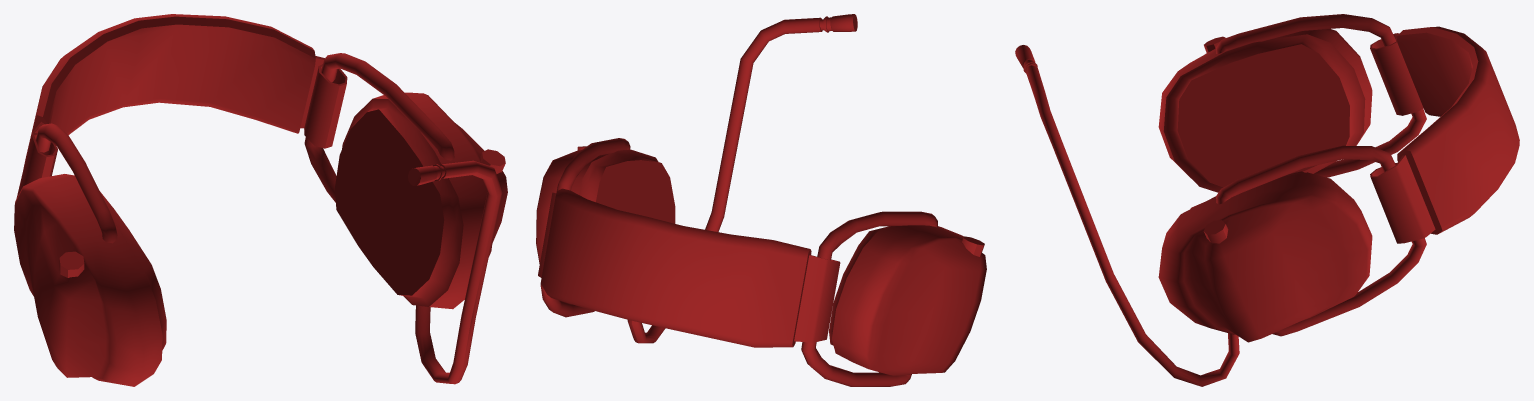
Rendered from W_SET_Headset.FBX.
3 renders of one model, left to right at view 1: azimuth 30°, elevation 25°; view 2: azimuth 150°, elevation 25°; view 3: azimuth 270°, elevation 25°, orthographic. The views are drawn at different scales.
Visible parts, largest first — view 1: Object058; view 2: Object058; view 3: Object058.
Part boxes in pixels (box(x1,y1,x2,y2)): Object058: box(14, 14, 507, 386); Object058: box(536, 14, 986, 386); Object058: box(1015, 14, 1519, 386).
Bounding box in the file's own units: 17.97 × 12.19 × 19.45.
